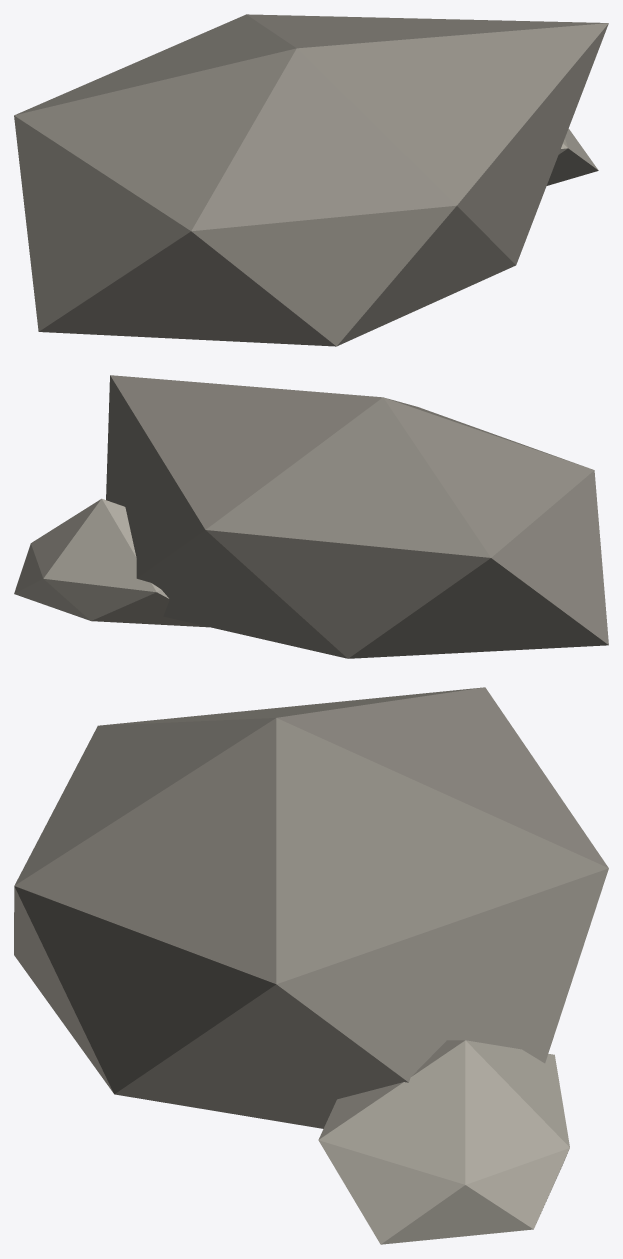
File: rocher.glb
3 views of the same model, one above another, from view 1: azimuth 30°, elevation 25°; view 2: azimuth 150°, elevation 25°; view 3: azimuth 270°, elevation 25° (orthographic). The views are drawn at different scales.
Parts seen in each view (by area): view 1: rocher; view 2: rocher; view 3: rocher.
Boxes of the visible parts, <box> form: rocher: <box>14,14,608,346</box>; rocher: <box>14,375,608,658</box>; rocher: <box>14,687,608,1244</box>.
Size of the model in its own units: 2.88 by 1.24 by 1.89.
1 material, 1 textured.
